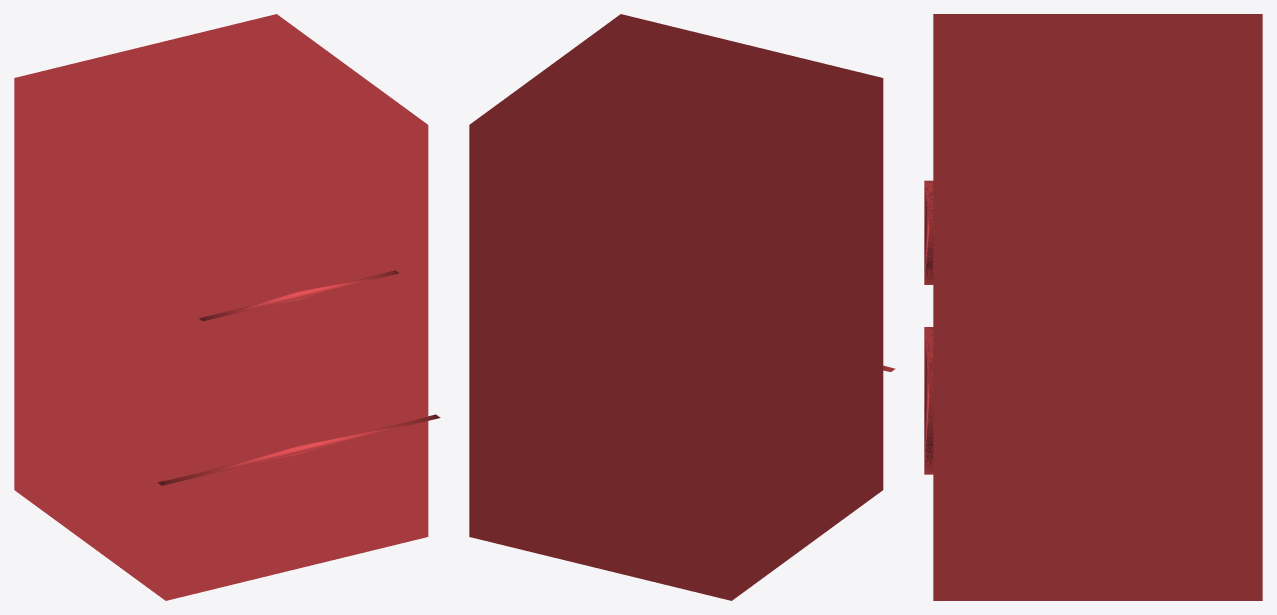
Rendered from speaker.obj.
3 views of the same model, side by side, from view 1: azimuth 30°, elevation 25°; view 2: azimuth 150°, elevation 25°; view 3: azimuth 270°, elevation 25° (orthographic). The views are drawn at different scales.
Visible parts, largest first — view 1: speaker; view 2: speaker; view 3: speaker.
Boxes of the visible parts, left/top/right/bottom form: speaker: left=14, top=14, right=440, bottom=600; speaker: left=469, top=14, right=895, bottom=600; speaker: left=924, top=14, right=1262, bottom=600.
Size of the model in its own units: 1.7 by 2.4 by 1.65.
